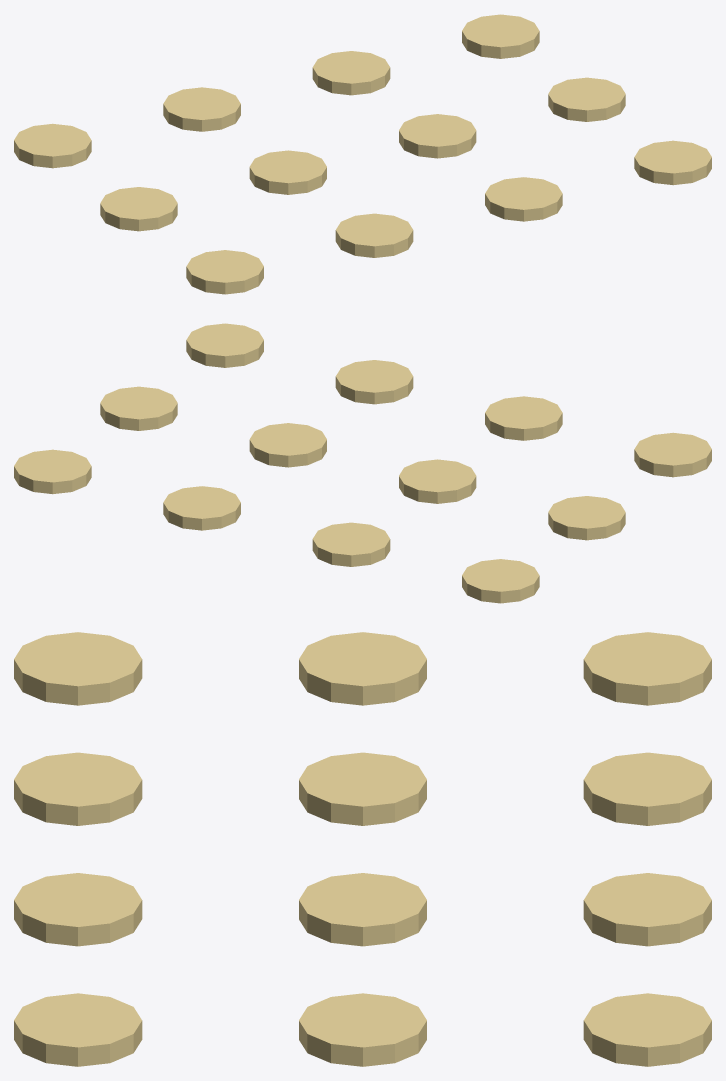
File: 279_L118_GroundStitchingVisual.glb
3 renders of one model, top to bottom at view 1: azimuth 30°, elevation 25°; view 2: azimuth 150°, elevation 25°; view 3: azimuth 270°, elevation 25°, orthographic. The views are drawn at different scales.
Visible parts, largest first — view 1: 0002__PSMAT__gold, 0009__PSMAT__gold, 0004__PSMAT__gold, 0005__PSMAT__gold, 0006__PSMAT__gold, 0007__PSMAT__gold, 0000__PSMAT__gold, 0001__PSMAT__gold, 0010__PSMAT__gold, 0011__PSMAT__gold, 0003__PSMAT__gold, 0008__PSMAT__gold; view 2: 0001__PSMAT__gold, 0010__PSMAT__gold, 0004__PSMAT__gold, 0005__PSMAT__gold, 0006__PSMAT__gold, 0007__PSMAT__gold, 0002__PSMAT__gold, 0003__PSMAT__gold, 0008__PSMAT__gold, 0009__PSMAT__gold, 0000__PSMAT__gold, 0011__PSMAT__gold; view 3: 0000__PSMAT__gold, 0003__PSMAT__gold, 0008__PSMAT__gold, 0011__PSMAT__gold, 0001__PSMAT__gold, 0002__PSMAT__gold, 0009__PSMAT__gold, 0010__PSMAT__gold, 0004__PSMAT__gold, 0005__PSMAT__gold, 0006__PSMAT__gold, 0007__PSMAT__gold.
Boxes of the visible parts, left/top/right/bottom form: 0002__PSMAT__gold: left=312, top=51, right=390, bottom=95; 0009__PSMAT__gold: left=335, top=213, right=413, bottom=257; 0004__PSMAT__gold: left=100, top=187, right=177, bottom=231; 0005__PSMAT__gold: left=249, top=150, right=326, bottom=194; 0006__PSMAT__gold: left=399, top=114, right=476, bottom=158; 0007__PSMAT__gold: left=548, top=77, right=625, bottom=121; 0000__PSMAT__gold: left=14, top=123, right=91, bottom=168; 0001__PSMAT__gold: left=163, top=87, right=240, bottom=131; 0010__PSMAT__gold: left=485, top=177, right=562, bottom=221; 0011__PSMAT__gold: left=634, top=140, right=711, bottom=185; 0003__PSMAT__gold: left=462, top=14, right=539, bottom=58; 0008__PSMAT__gold: left=186, top=250, right=263, bottom=294; 0001__PSMAT__gold: left=312, top=522, right=390, bottom=566; 0010__PSMAT__gold: left=335, top=360, right=413, bottom=404; 0004__PSMAT__gold: left=548, top=496, right=625, bottom=540; 0005__PSMAT__gold: left=399, top=459, right=476, bottom=503; 0006__PSMAT__gold: left=249, top=423, right=326, bottom=467; 0007__PSMAT__gold: left=100, top=386, right=177, bottom=430; 0002__PSMAT__gold: left=163, top=486, right=240, bottom=530; 0003__PSMAT__gold: left=14, top=449, right=91, bottom=494; 0008__PSMAT__gold: left=634, top=432, right=711, bottom=477; 0009__PSMAT__gold: left=485, top=396, right=562, bottom=440; 0000__PSMAT__gold: left=462, top=559, right=539, bottom=603; 0011__PSMAT__gold: left=186, top=323, right=263, bottom=367; 0000__PSMAT__gold: left=583, top=632, right=711, bottom=705; 0003__PSMAT__gold: left=583, top=993, right=711, bottom=1066; 0008__PSMAT__gold: left=14, top=632, right=142, bottom=705; 0011__PSMAT__gold: left=14, top=993, right=142, bottom=1066; 0001__PSMAT__gold: left=583, top=752, right=711, bottom=825; 0002__PSMAT__gold: left=583, top=873, right=711, bottom=946; 0009__PSMAT__gold: left=14, top=752, right=142, bottom=825; 0010__PSMAT__gold: left=14, top=873, right=142, bottom=946; 0004__PSMAT__gold: left=299, top=632, right=426, bottom=705; 0005__PSMAT__gold: left=299, top=752, right=426, bottom=825; 0006__PSMAT__gold: left=299, top=873, right=426, bottom=946; 0007__PSMAT__gold: left=299, top=993, right=426, bottom=1066.
Bounding box in the file's own units: 0.0138 × 0.0003 × 0.0098.
